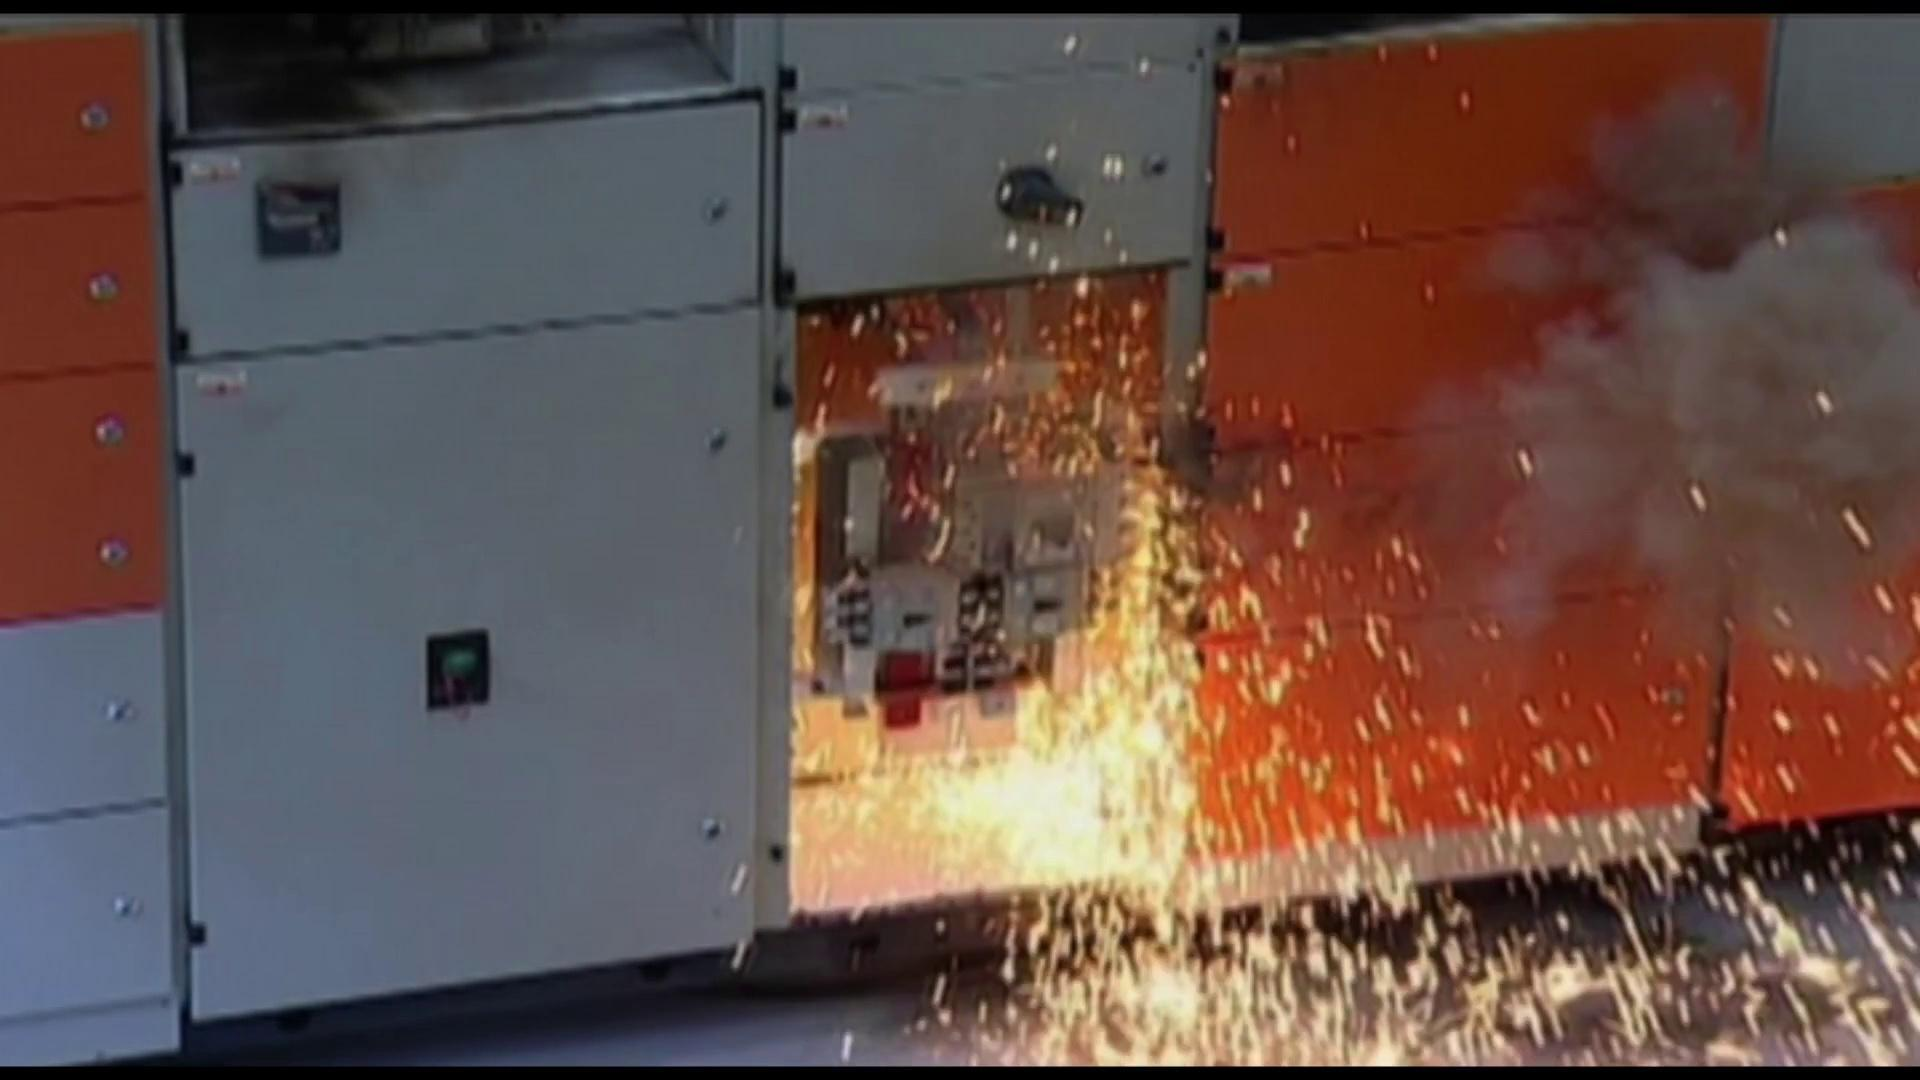fire: (698, 276, 1920, 1080)
